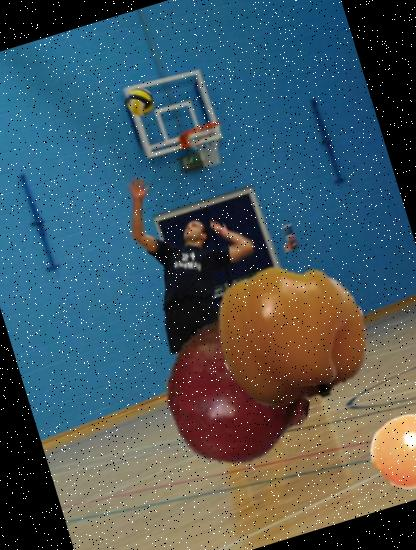Pepper: (201, 241, 386, 426), (221, 317, 292, 387)
Physalis: (363, 402, 416, 499)
Pomegranate: (148, 301, 330, 483)
